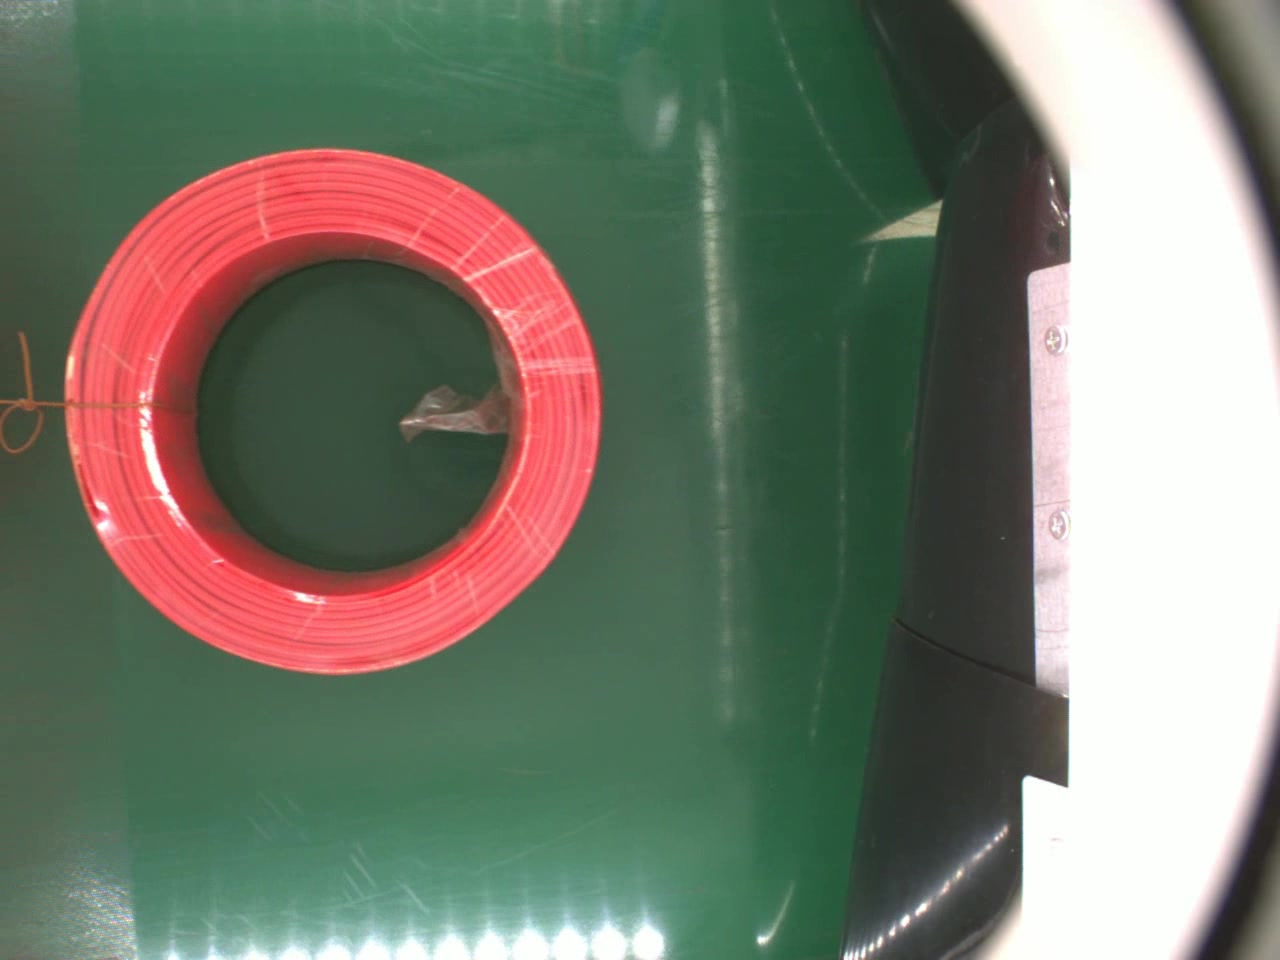red: (65, 145, 597, 672)
